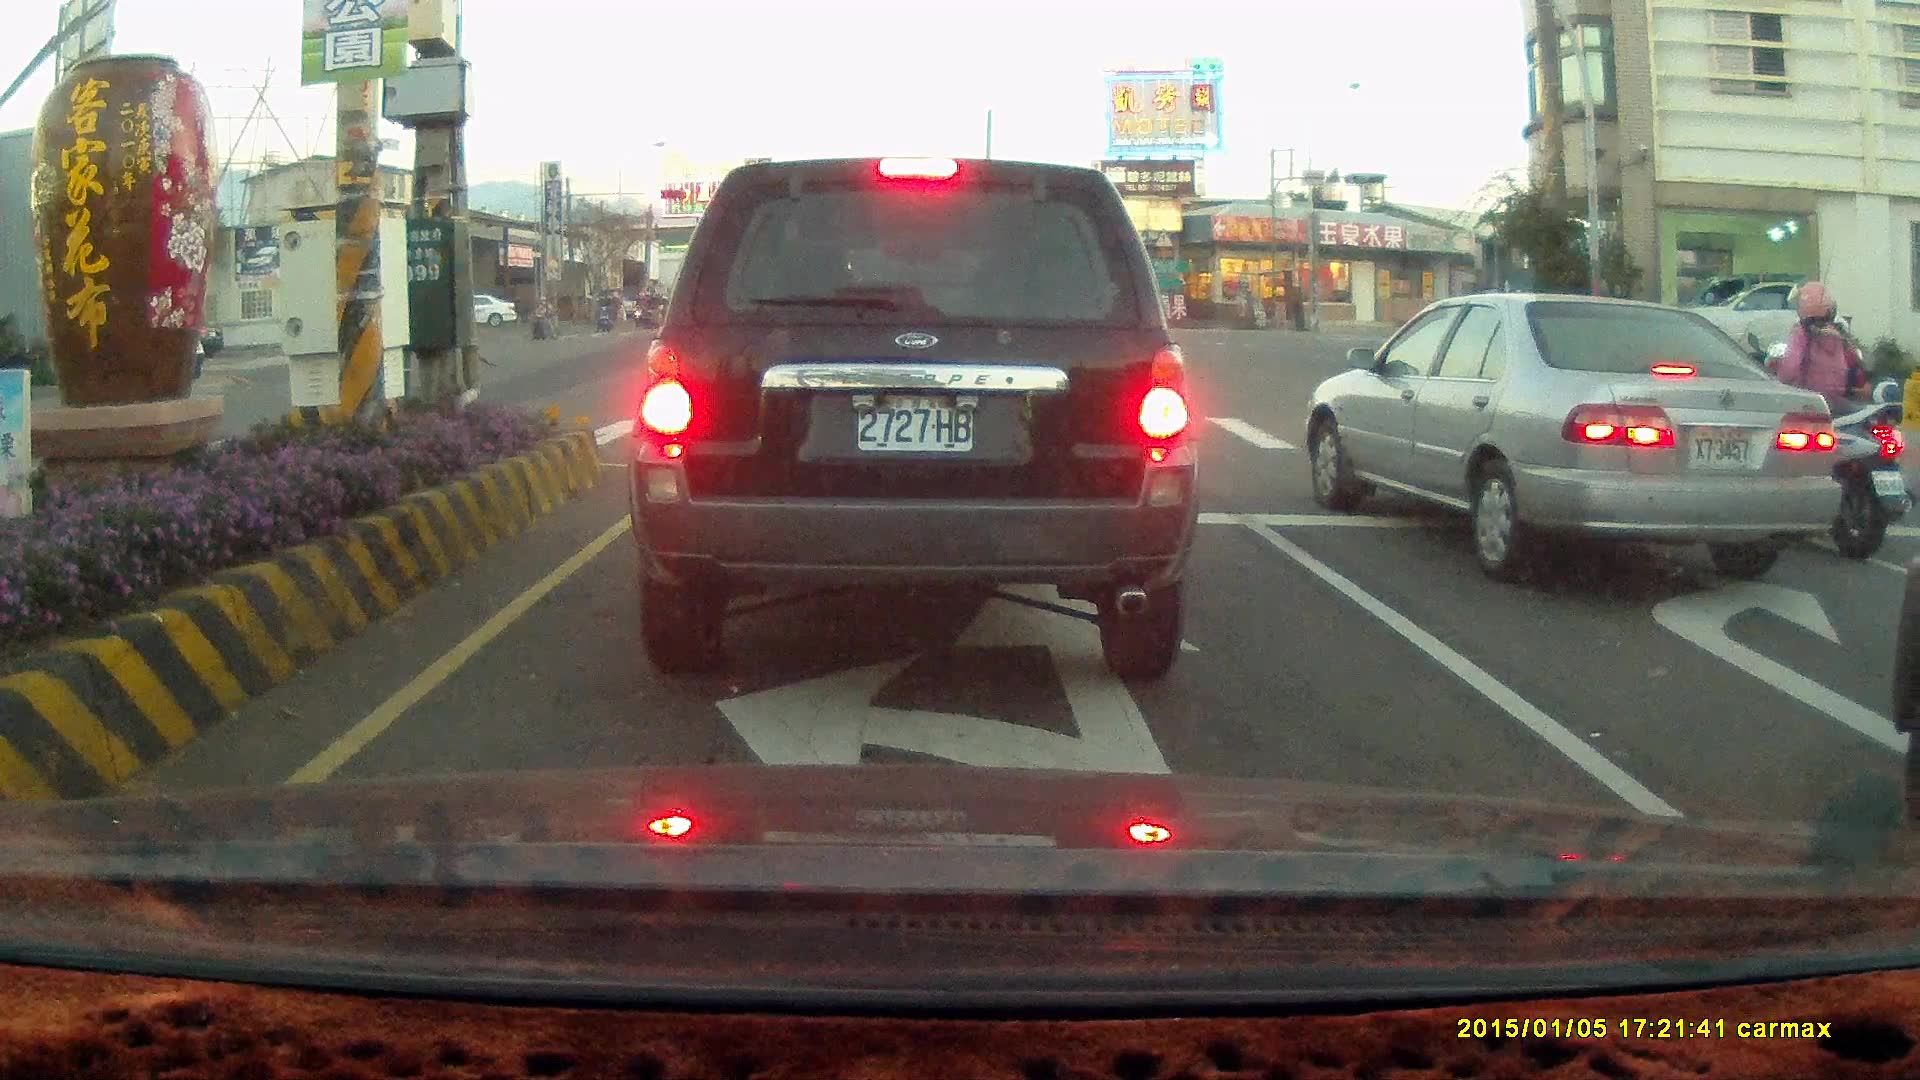rider: (1688, 274, 1915, 560), (528, 290, 562, 338), (593, 291, 614, 332), (643, 290, 664, 327)
vehicle: (625, 154, 1198, 686), (1301, 290, 1843, 584), (1315, 293, 1847, 579), (1650, 273, 1848, 367), (1668, 275, 1823, 373), (1891, 503, 1920, 849)
